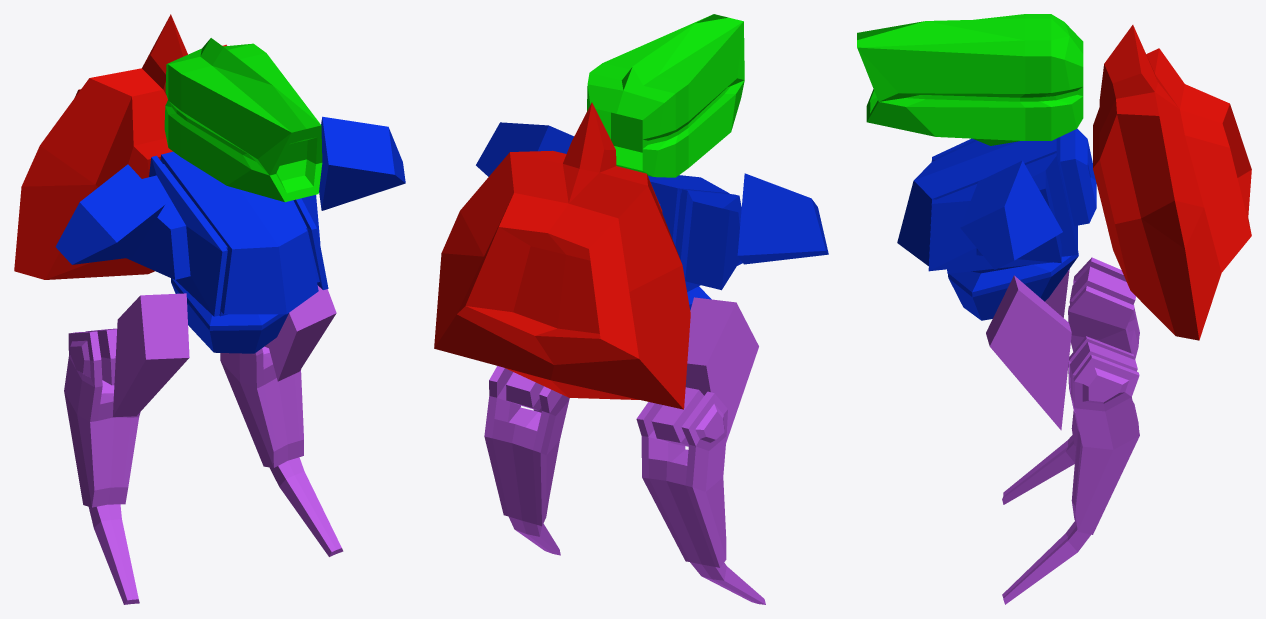
File: Standard.fbx
3 views of the same model, side by side, from view 1: azimuth 30°, elevation 25°; view 2: azimuth 150°, elevation 25°; view 3: azimuth 270°, elevation 25° (orthographic).
Visible parts, largest first — view 1: Body, Booster, Head.001; view 2: Booster, Body, Head.001; view 3: Body, Booster, Head.001.
Part boxes in pixels (box(x1,y1,x2,y2)): Body: box(55, 116, 405, 604); Booster: box(14, 14, 226, 279); Head.001: box(164, 38, 322, 202); Booster: box(434, 102, 690, 409); Body: box(476, 122, 828, 604); Head.001: box(587, 14, 744, 177); Body: box(897, 128, 1139, 604); Booster: box(1093, 25, 1251, 340); Head.001: box(857, 14, 1083, 145).
Size of the model in its own units: 872 by 1259 by 844.
